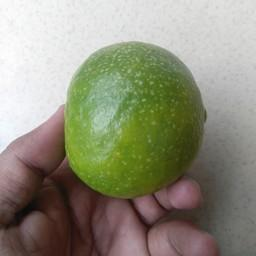Good_orange: (64, 38, 204, 201)
